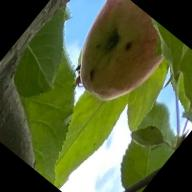Apples: (56, 0, 179, 115)
